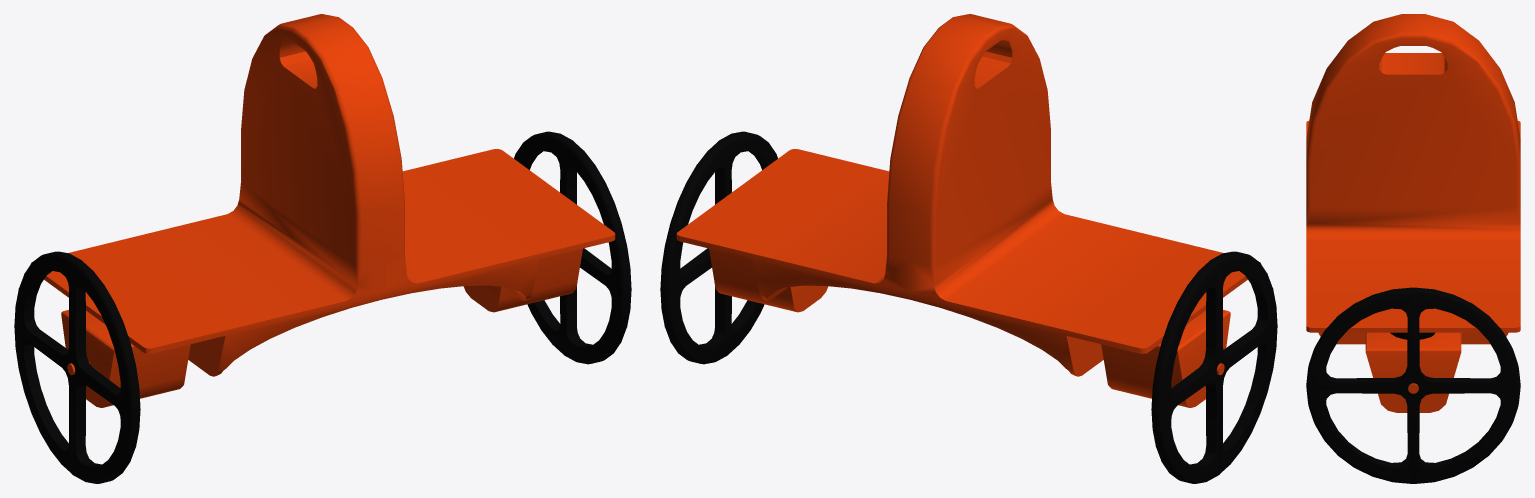
Rendered from Scooter.glb.
3 views of the same model, side by side, from view 1: azimuth 30°, elevation 25°; view 2: azimuth 150°, elevation 25°; view 3: azimuth 270°, elevation 25° (orthographic). The views are drawn at different scales.
Parts seen in each view (by area): view 1: Scooter_LOD0, Scooter_Wheels_LOD0; view 2: Scooter_LOD0, Scooter_Wheels_LOD0; view 3: Scooter_LOD0, Scooter_Wheels_LOD0.
Part boxes in pixels (x1,y1,x2,y2): Scooter_LOD0: (31,14,615,407); Scooter_Wheels_LOD0: (14,131,631,483); Scooter_LOD0: (676,14,1260,407); Scooter_Wheels_LOD0: (660,131,1277,483); Scooter_LOD0: (1306,14,1520,412); Scooter_Wheels_LOD0: (1306,287,1520,483).
Size of what is drawn, in the model's own units: 0.4918 by 0.3613 by 0.2.
